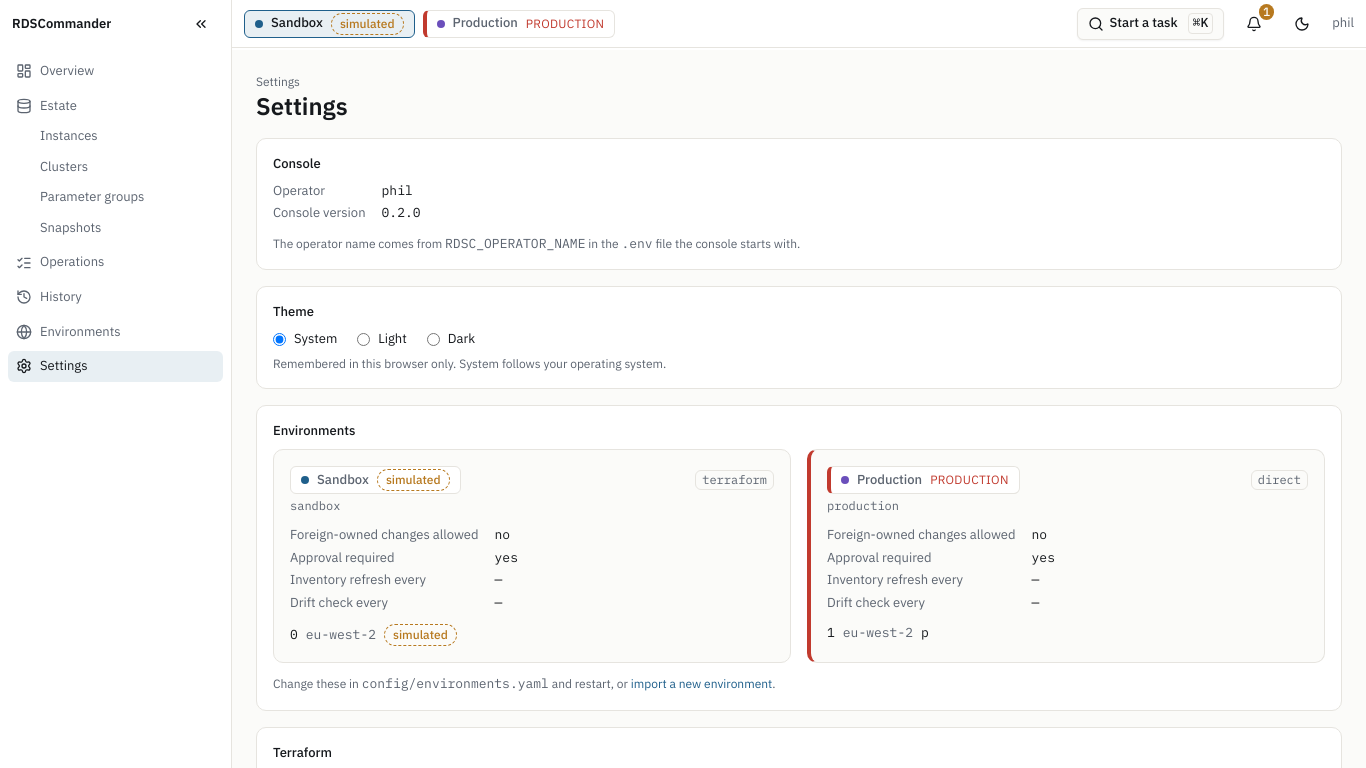
it: Shell › keeps the top-bar toggle and the Settings radios in step with each other
This screenshot has width=1366, height=768.
Choosing Dark in Settings turns the top-bar button round at once: it now offers the light theme.
Click the radio button labelled "Dark": (433, 339) left=427, top=333, right=440, bottom=346
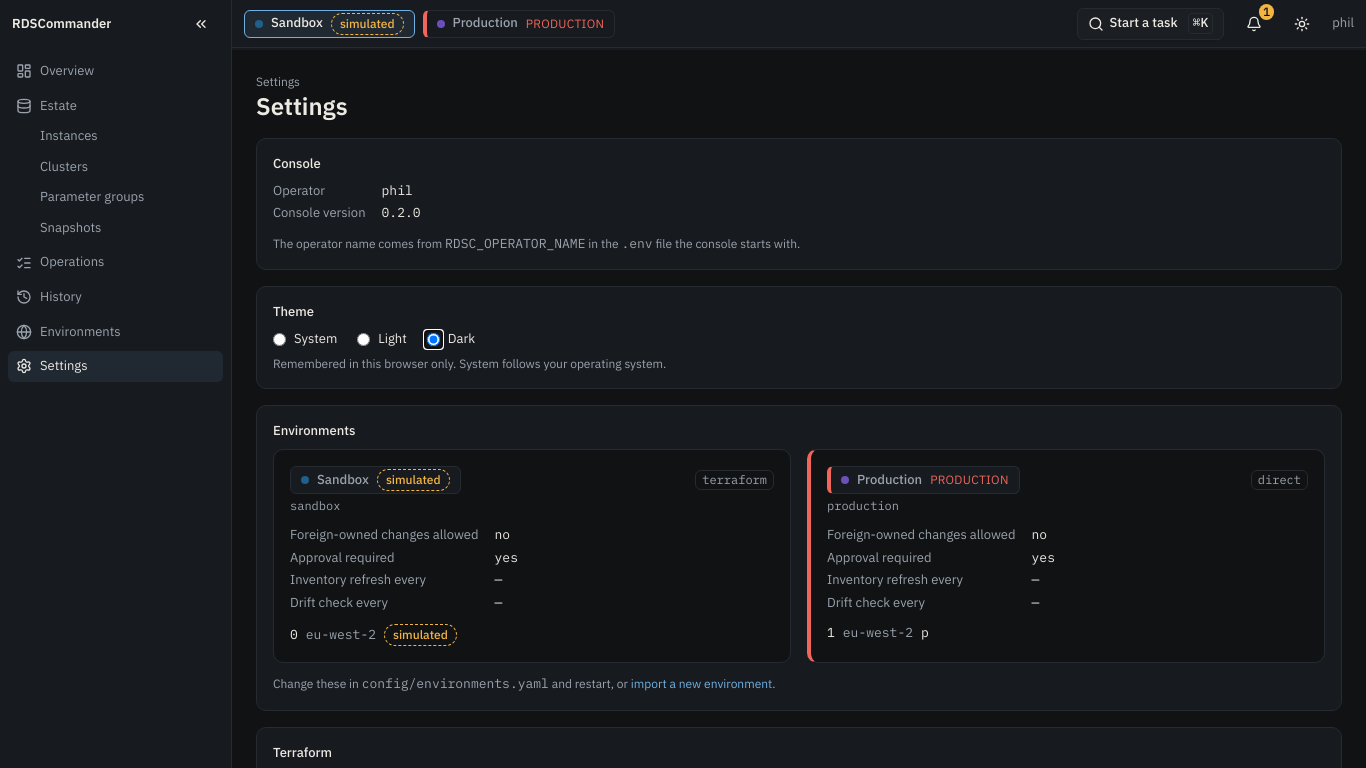
expect the button named "Switch to light theme" is shown: met
Clicking the top-bar button moves the radios.
Click the button named "Switch to light theme": (1302, 24) left=1284, top=6, right=1320, bottom=42
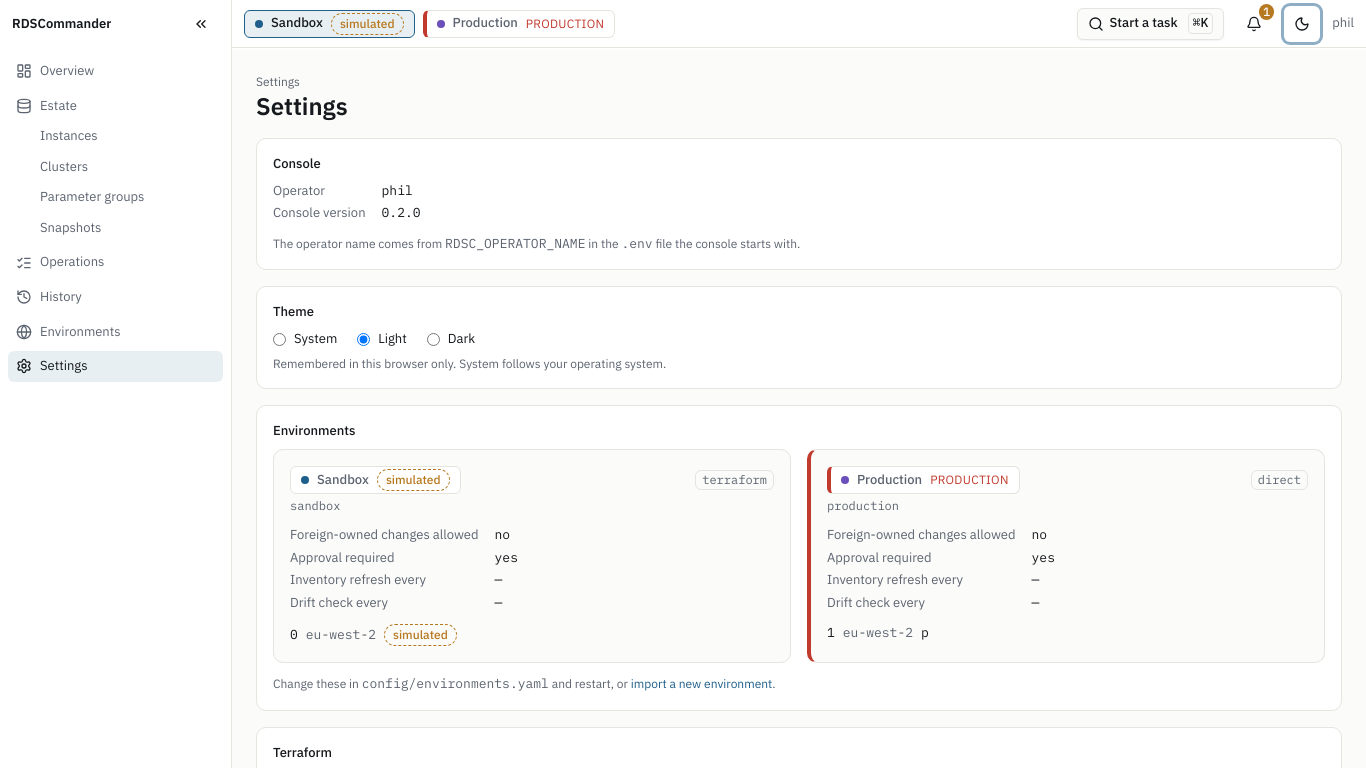
expect the radio button labelled "Dark" is not checked: met, box left=427, top=333, right=440, bottom=346
expect the radio button labelled "Light" is checked: met, box left=357, top=333, right=370, bottom=346
expect the button named "Switch to dark theme" is shown: met, box left=1284, top=6, right=1320, bottom=42
